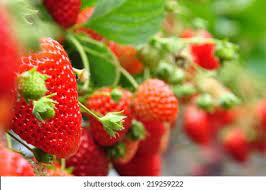ripe: (19, 39, 83, 159), (65, 5, 152, 74), (82, 85, 136, 144), (123, 76, 181, 129), (0, 14, 24, 142), (57, 124, 112, 178), (176, 96, 224, 145), (176, 29, 227, 70), (216, 115, 253, 165), (113, 148, 166, 182), (103, 121, 139, 168), (130, 117, 172, 151), (1, 149, 37, 183), (40, 4, 85, 29)
unripe: (22, 69, 48, 97)
